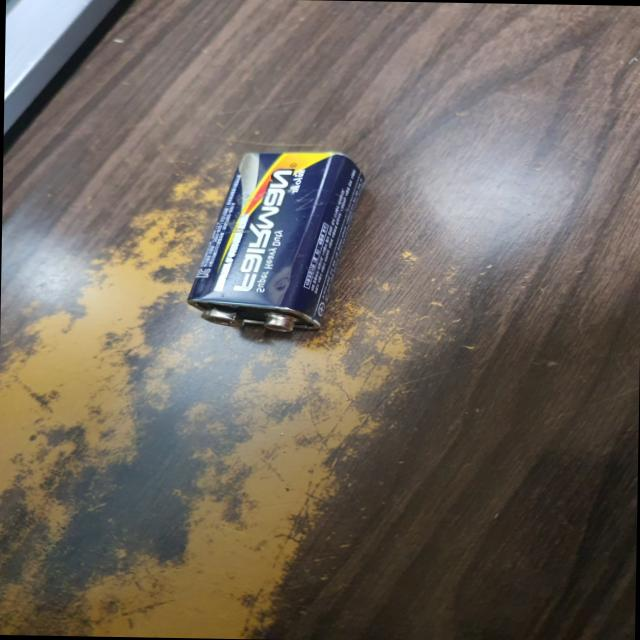battery-etc-etc: (174, 141, 378, 344)
